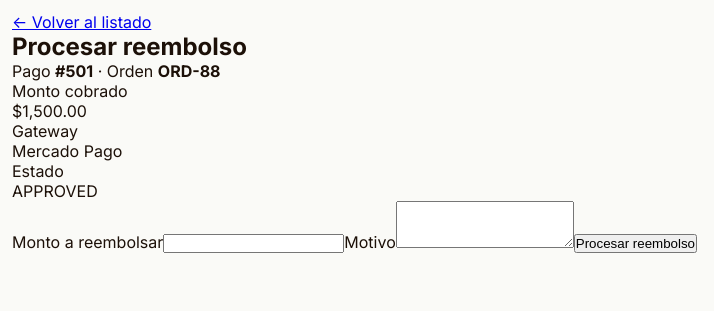
Test: AdminPaymentRefundPage (UC-PAY-09) › rechaza el envio si el motivo esta vacio
expect the heading "Procesar reembolso" is shown: met, box [12,32,247,61]
Type "500" into the number field labelled "Monto a reembolsar" at (254, 244), box [163,234,344,253]
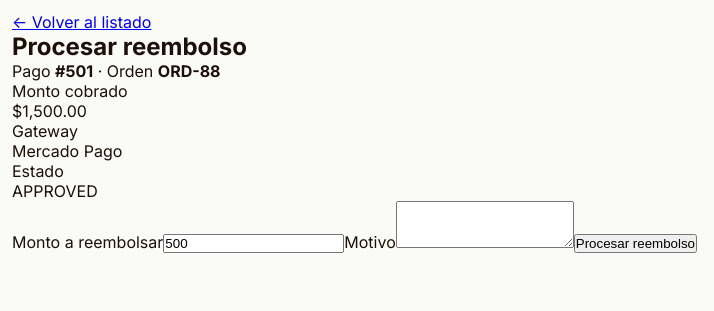
Click the button "Procesar reembolso" at (635, 244), box [574,234,697,253]
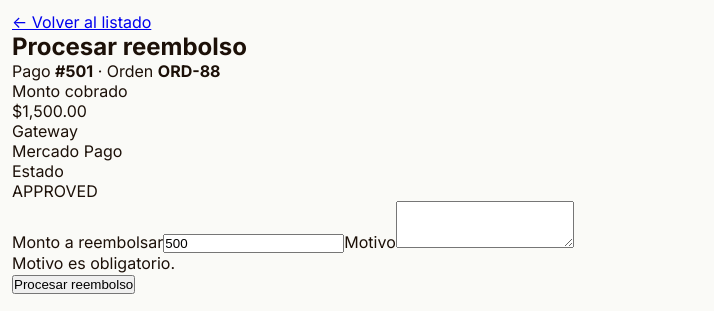
expect the text "Motivo es obligatorio." is shown: met, box [12,253,175,273]
